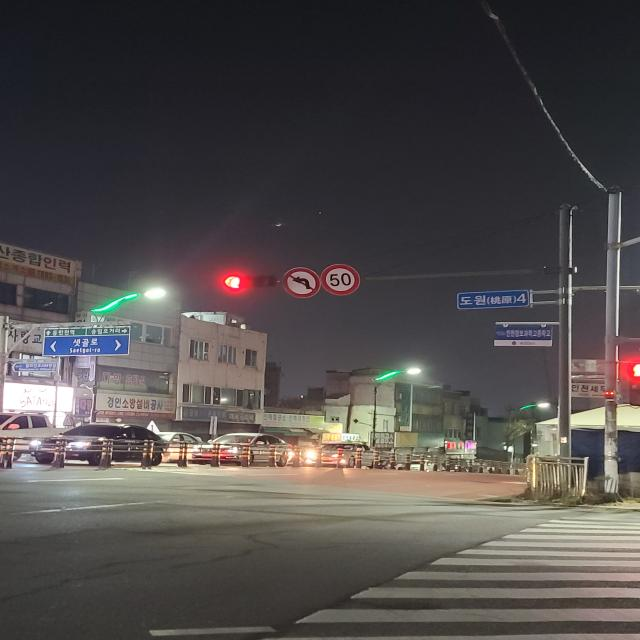Red Light: (222, 275, 244, 290)
